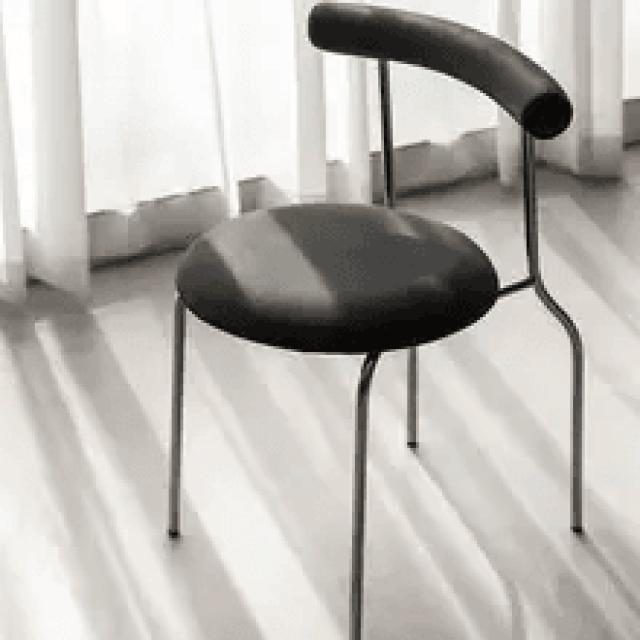chair: (160, 0, 595, 640), (172, 2, 573, 354)
